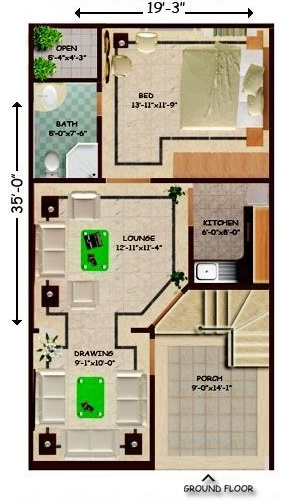wall: (269, 26, 274, 471), (28, 178, 32, 471), (30, 461, 155, 469), (28, 23, 274, 27), (29, 23, 33, 181), (150, 178, 269, 183), (189, 283, 269, 289), (30, 178, 106, 183), (188, 227, 194, 288), (29, 78, 101, 83), (97, 23, 102, 92), (151, 375, 154, 470), (98, 116, 102, 179), (131, 328, 154, 333), (150, 328, 155, 339)
